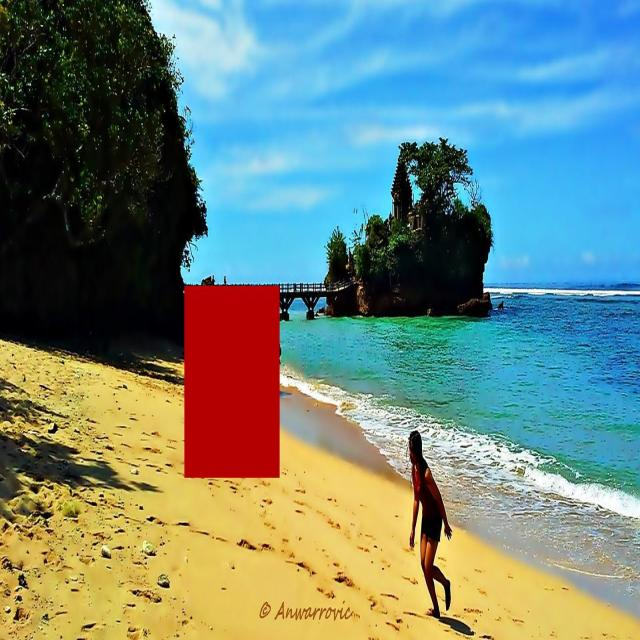RedSquare: (181, 276, 285, 485)
